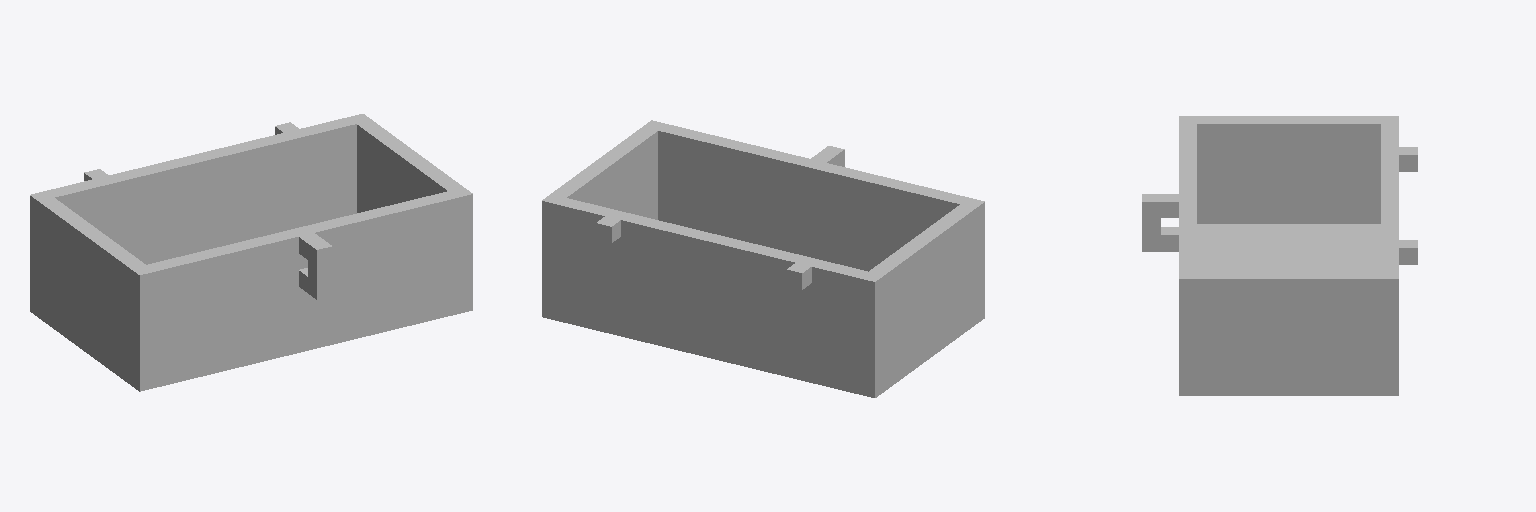
Rendered from ChestBase.obj.
3 renders of one model, left to right at view 1: azimuth 30°, elevation 25°; view 2: azimuth 150°, elevation 25°; view 3: azimuth 270°, elevation 25°, orthographic.
Bounding box in the file's own units: 21 × 7 × 15.